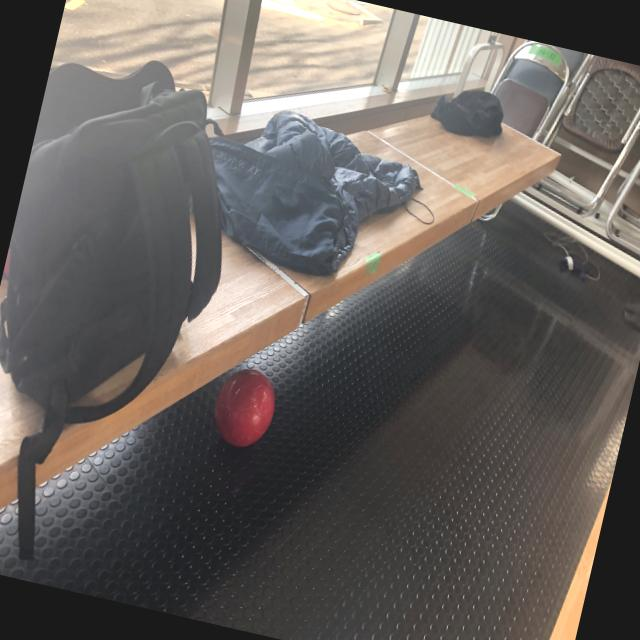red_ball: (208, 363, 280, 452)
